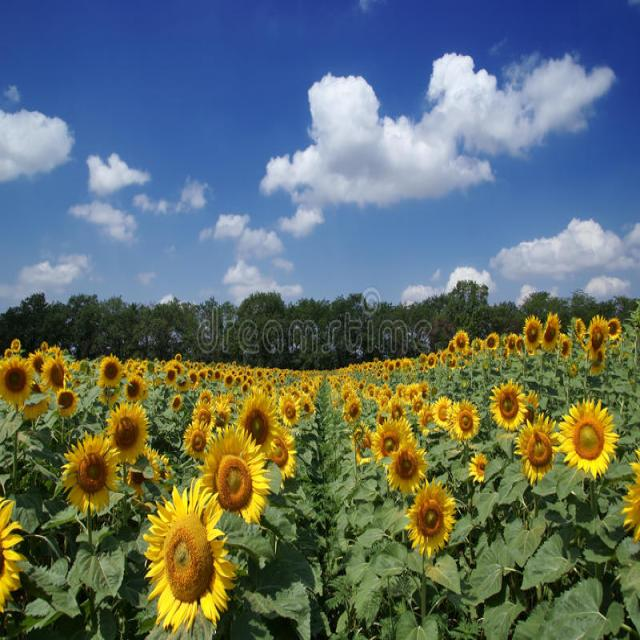sunflower: (136, 479, 237, 629), (202, 417, 268, 536), (556, 384, 618, 488), (54, 431, 118, 517), (400, 476, 462, 554), (511, 412, 563, 491), (242, 377, 280, 462), (383, 434, 430, 501), (101, 401, 151, 463), (484, 372, 529, 430), (0, 347, 35, 414), (442, 397, 484, 450), (370, 412, 404, 465), (40, 351, 74, 398), (97, 350, 123, 393), (586, 314, 609, 359), (524, 316, 545, 356), (344, 395, 363, 424), (170, 393, 183, 414)
